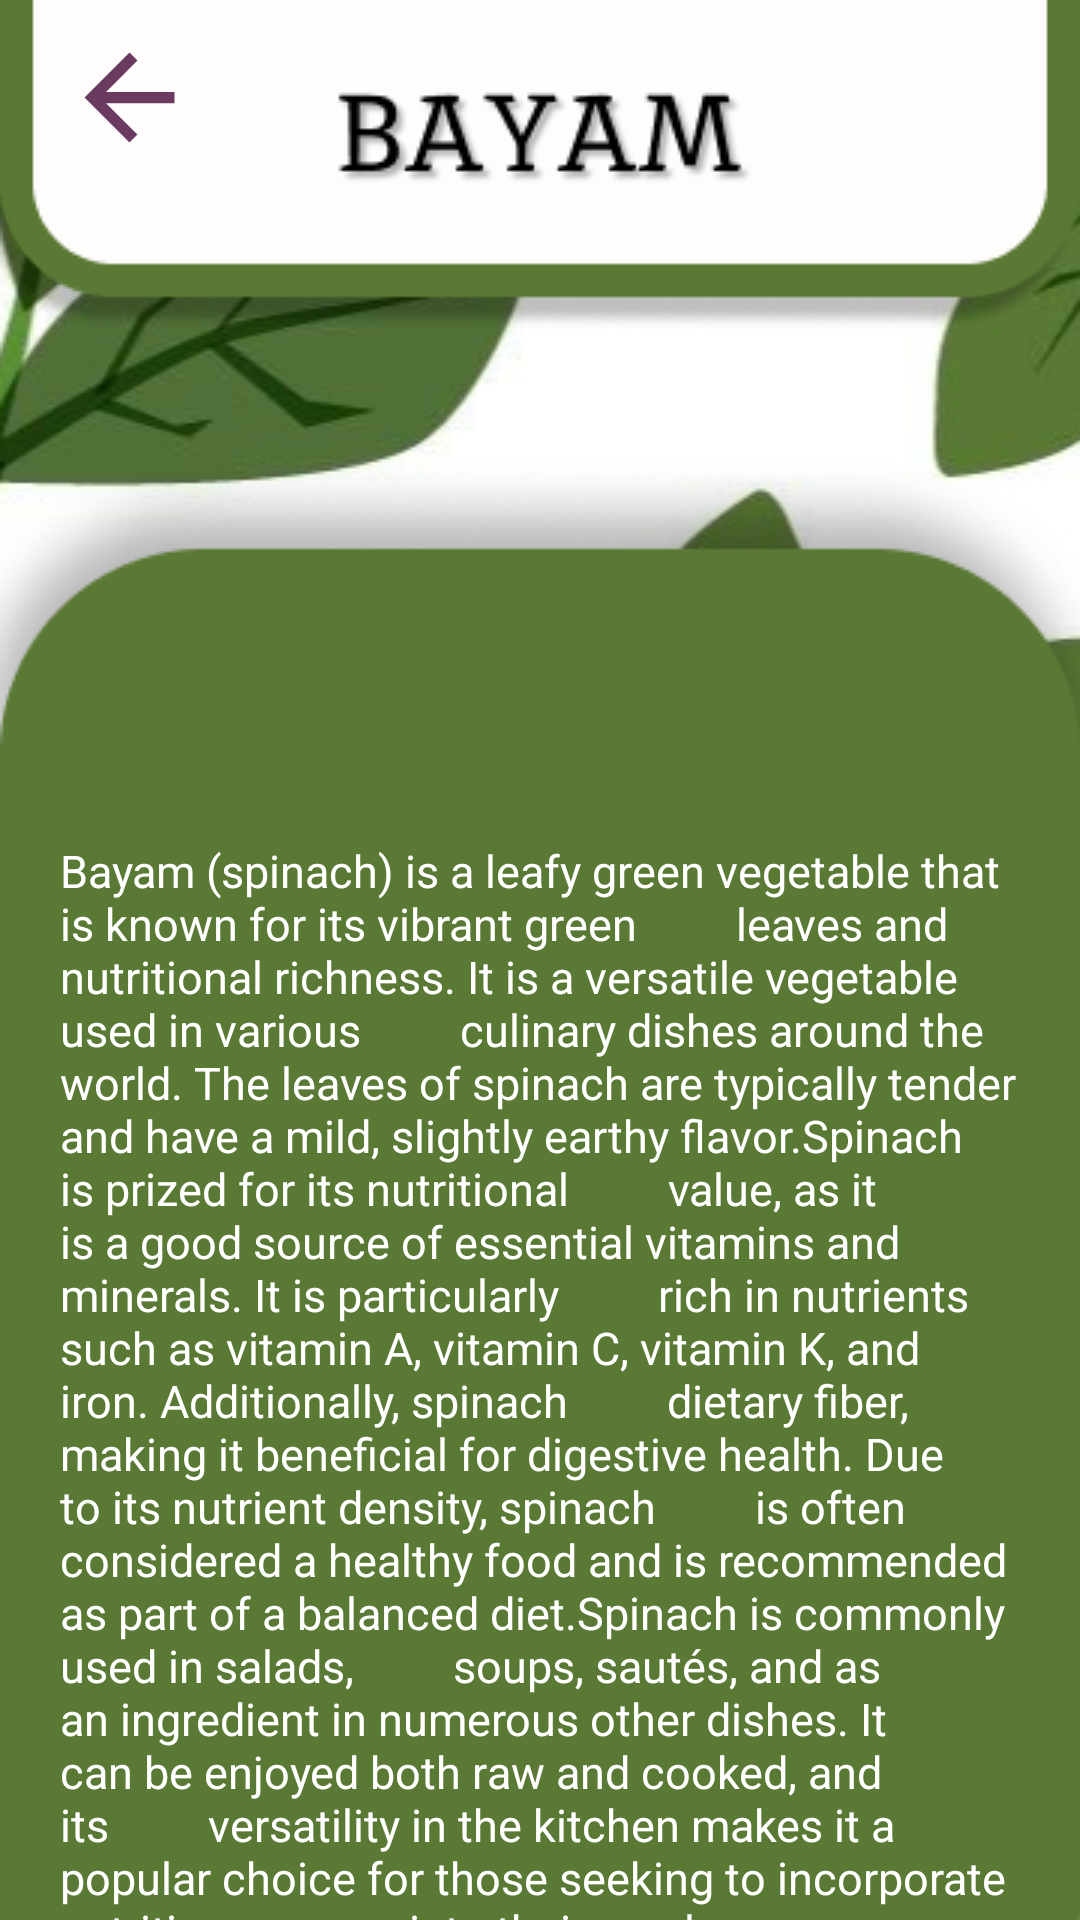

Locate icon controls on the screen. Image size 1080×1920, boxes as (x1, y1, x2, y2).
arrow back: (84, 52, 175, 143)
